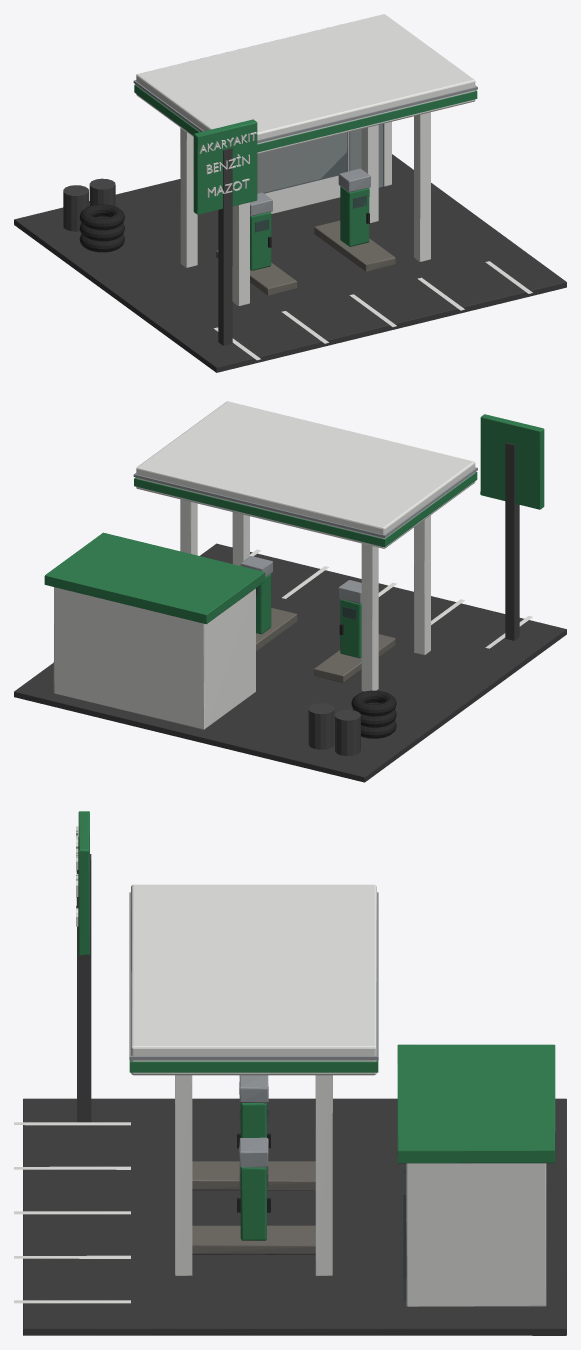
The model's file is benzinlik.glb.
3 renders of one model, top to bottom at view 1: azimuth 30°, elevation 25°; view 2: azimuth 150°, elevation 25°; view 3: azimuth 270°, elevation 25°, orthographic. The views are drawn at different scales.
Parts seen in each view (by area): view 1: Ada; view 2: Ada; view 3: Ada.
Part boxes in pixels (<box>): Ada: <box>14,14,566,372</box>; Ada: <box>14,401,566,782</box>; Ada: <box>14,811,566,1335</box>.
Bounding box in the file's own units: 0.9838 × 0.5928 × 1.
